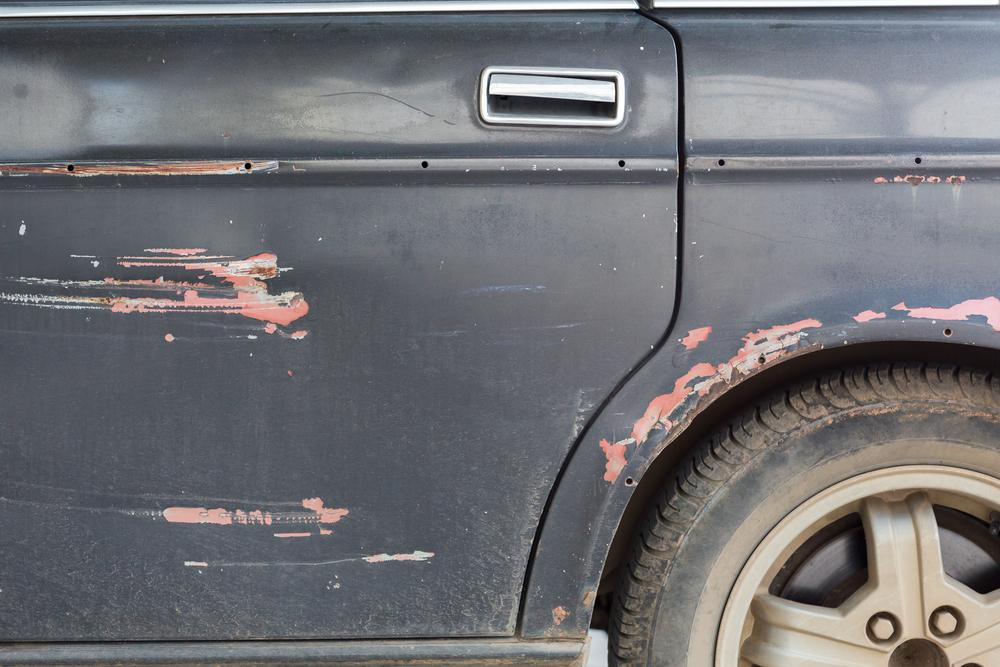scratch: (597, 276, 1000, 487), (0, 482, 448, 580), (0, 240, 320, 340)
